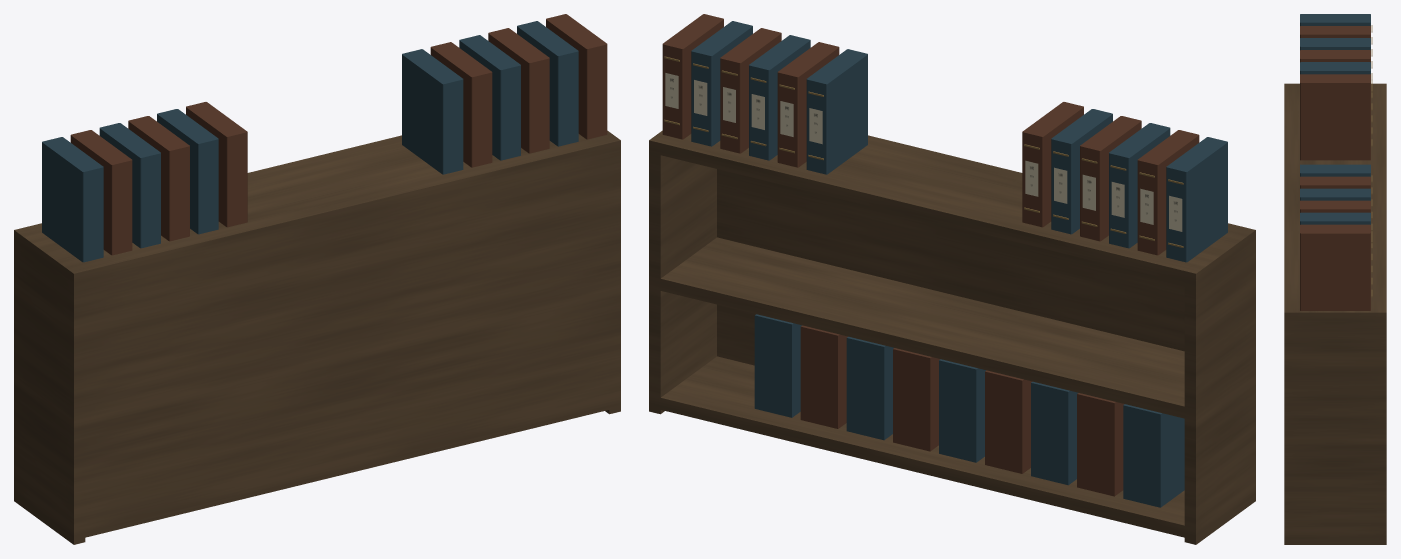
Rendered from SM_ArchiveProps_Bookcase.glb.
3 views of the same model, side by side, from view 1: azimuth 30°, elevation 25°; view 2: azimuth 150°, elevation 25°; view 3: azimuth 270°, elevation 25° (orthographic). The views are drawn at different scales.
Parts seen in each view (by area): view 1: SM_ArchiveProps_Bookcase; view 2: SM_ArchiveProps_Bookcase; view 3: SM_ArchiveProps_Bookcase.
Part boxes in pixels (x1,y1,x2,y2): SM_ArchiveProps_Bookcase: (14,14,620,544); SM_ArchiveProps_Bookcase: (649,14,1255,544); SM_ArchiveProps_Bookcase: (1284,14,1386,544).
Size of the model in its own units: 1.9 by 1.2 by 0.36.
Materials: 5 (2 with a texture image).
